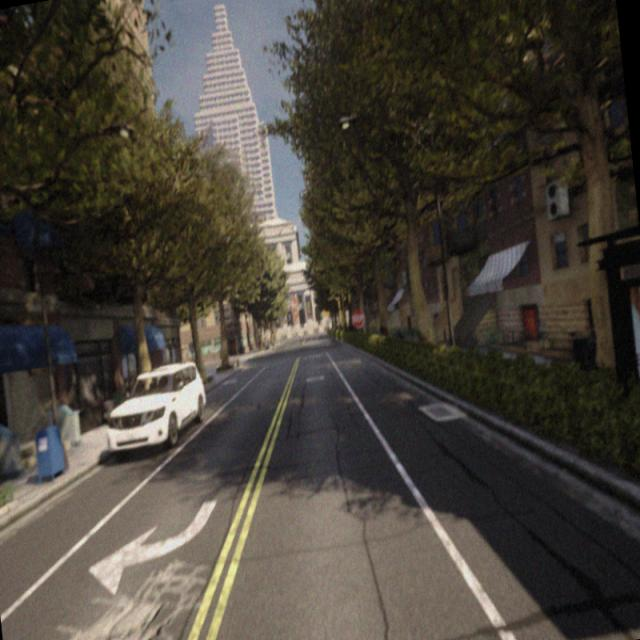stop sign: (349, 306, 366, 330)
